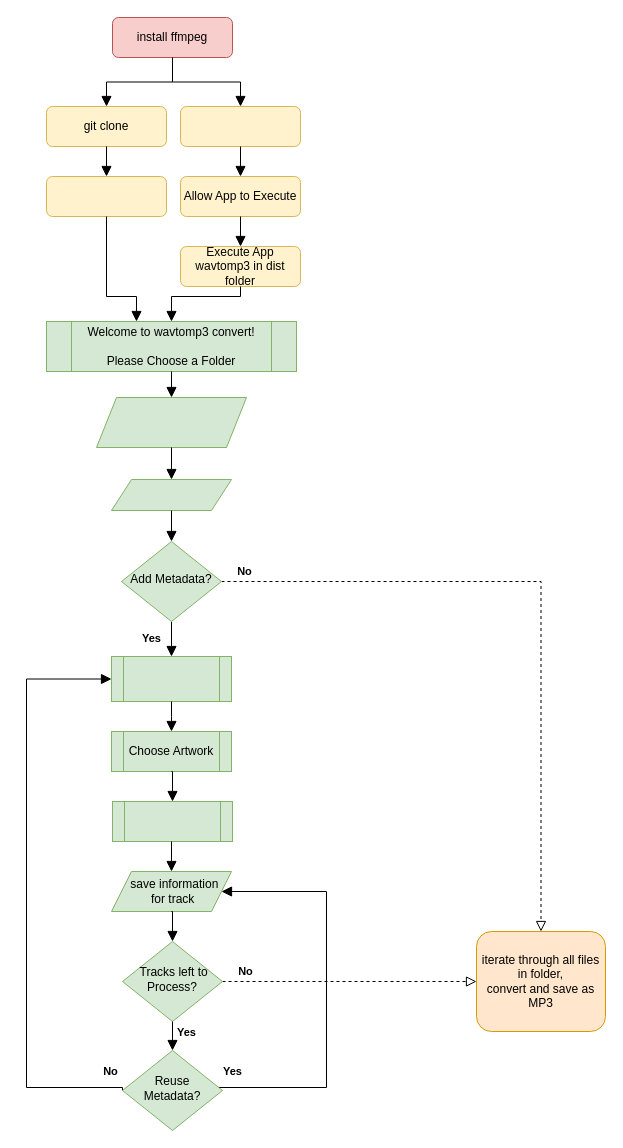
The diagram is 623 pixels wide and 1148 high, and some of its shapes have lost their labels. Each missing label, with the box of its shape:
Choose Release Title: (110, 656, 232, 702)
Download & Unarchive: (180, 106, 300, 146)
execute python wavtomp3.py: (46, 176, 166, 216)
First track: (110, 478, 232, 510)
Pick Genre: (112, 800, 232, 842)
Split all filenames and save Artist & Track title: (96, 396, 246, 448)
